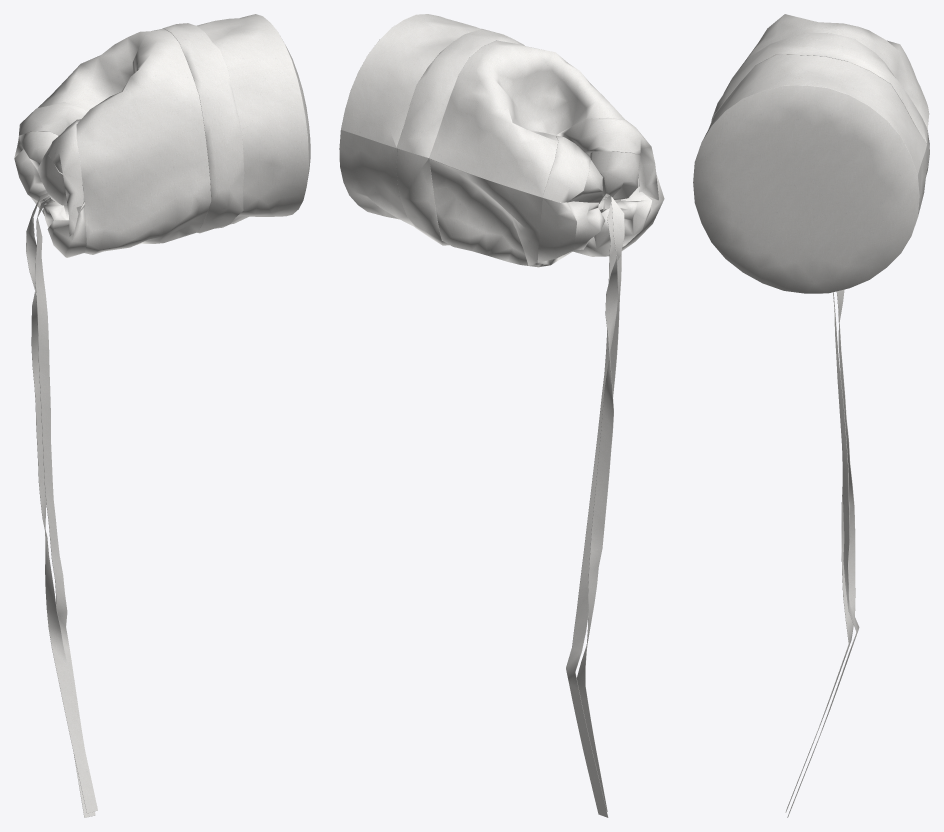
File: bomberbag.fbx
The picture shows the model from 3 angles, left to right: view 1: azimuth 30°, elevation 25°; view 2: azimuth 150°, elevation 25°; view 3: azimuth 270°, elevation 25°; orthographic projection. The views are drawn at different scales.
Visible parts, largest first — view 1: Pattern2D_131139, Pattern2D_136854, Pattern2D_135905, Pattern2D_135906, Pattern2D_136853; view 2: Pattern2D_131139, Pattern2D_136854, Pattern2D_136853, Pattern2D_135905, Pattern2D_135906; view 3: Pattern2D_129983, Pattern2D_131139, Pattern2D_136854, Pattern2D_135905, Pattern2D_135906.
Boxes of the visible parts, x1,y1,x2,y2 form: Pattern2D_131139: (14,14,308,257); Pattern2D_136854: (163,23,244,233); Pattern2D_135905: (26,193,97,813); Pattern2D_135906: (35,197,95,817); Pattern2D_136853: (19,102,87,236); Pattern2D_131139: (339,14,664,267); Pattern2D_136854: (396,28,524,245); Pattern2D_136853: (542,117,658,202); Pattern2D_135905: (576,196,624,811); Pattern2D_135906: (566,202,621,817); Pattern2D_129983: (693,85,919,293); Pattern2D_131139: (693,14,929,293); Pattern2D_136854: (711,32,929,176); Pattern2D_135905: (785,289,855,812); Pattern2D_135906: (787,292,859,817).
Bounding box in the file's own units: 26.07 × 75.01 × 19.2.
